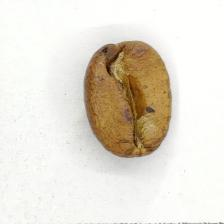NG: (100, 46, 162, 147)
